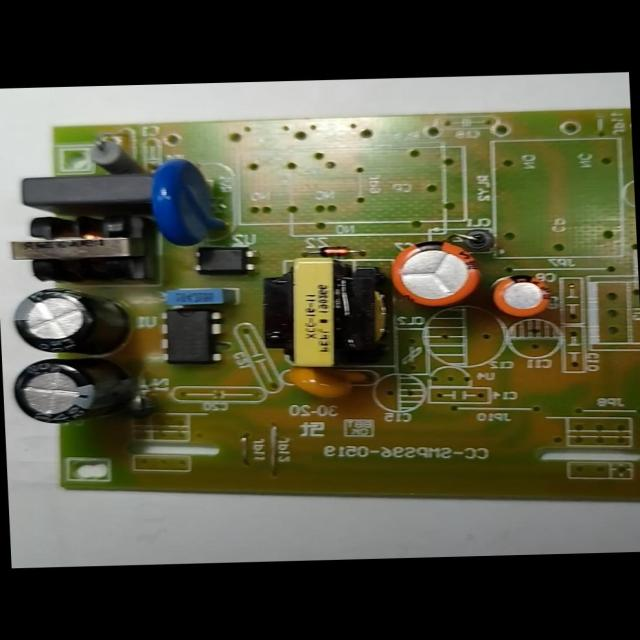Cap1: (384, 237, 485, 309)
Cap2: (491, 273, 555, 319)
Cap3: (10, 286, 135, 356)
Cap4: (11, 356, 138, 422)
MOSFET: (158, 308, 224, 367)
Mov: (148, 155, 226, 247)
Resistor: (85, 136, 140, 176)
Transformer: (261, 256, 393, 370), (8, 212, 155, 284)
